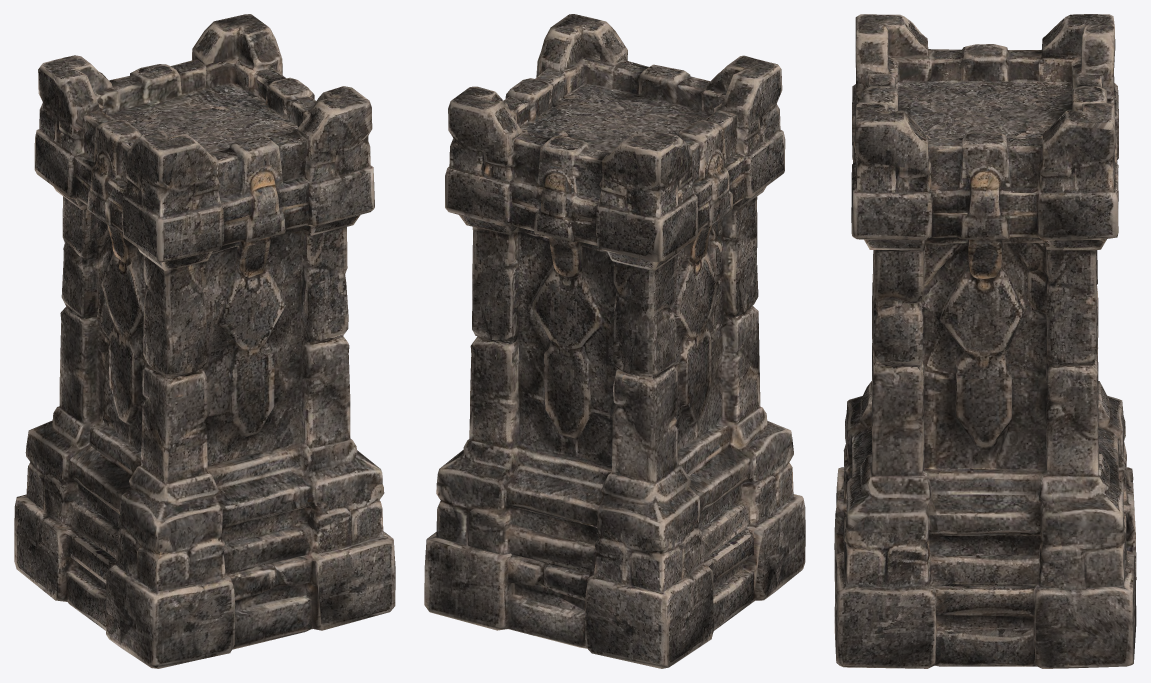
Rendered from fort_m_volcano_tower.glb.
3 views of the same model, side by side, from view 1: azimuth 30°, elevation 25°; view 2: azimuth 150°, elevation 25°; view 3: azimuth 270°, elevation 25° (orthographic). The views are drawn at different scales.
Visible parts, largest first — view 1: fort_m_volcano_tower; view 2: fort_m_volcano_tower; view 3: fort_m_volcano_tower.
Part boxes in pixels (x1,y1,x2,y2): fort_m_volcano_tower: (14, 14, 395, 668); fort_m_volcano_tower: (424, 14, 805, 668); fort_m_volcano_tower: (834, 14, 1136, 668).
Bounding box in the file's own units: 0.9627 × 1.9 × 0.9633.
1 material, 1 textured.
